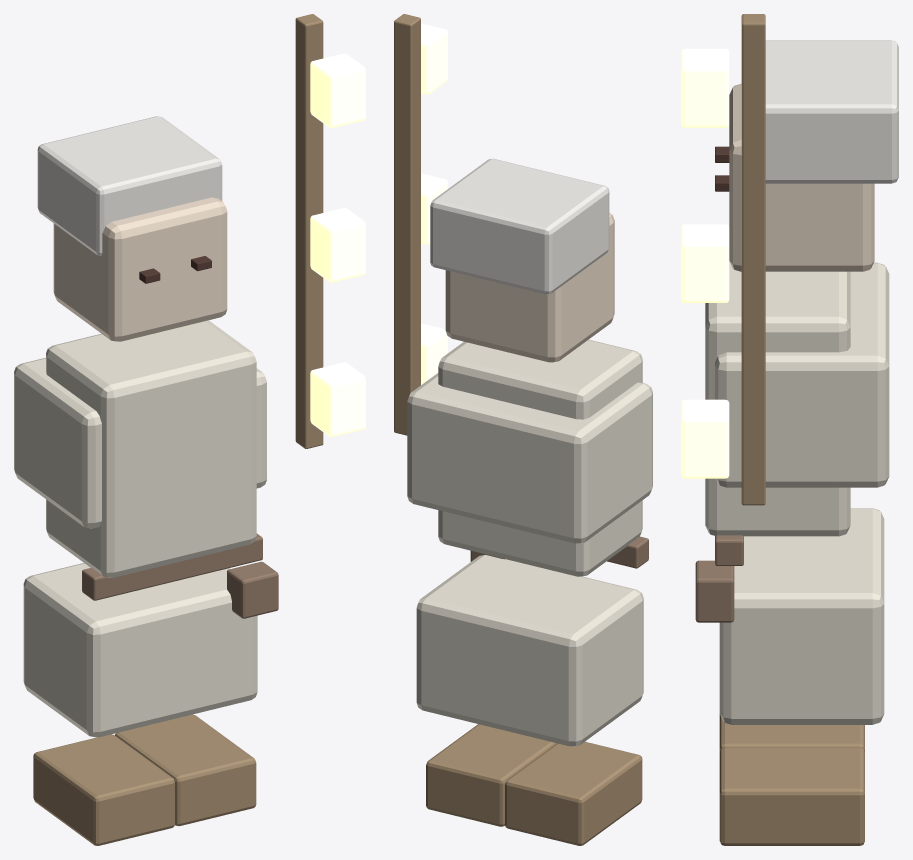
The model's file is npc_eldra.glb.
3 renders of one model, left to right at view 1: azimuth 30°, elevation 25°; view 2: azimuth 150°, elevation 25°; view 3: azimuth 270°, elevation 25°, orthographic. The views are drawn at different scales.
Parts seen in each view (by area): view 1: Body_torso, Body_skirt, Head_skull, Head_hair, Body_shawl, Leg_L_clog, Arm_R_pole, Leg_R_clog, Body_belt, Arm_R_lantern_2, Arm_R_lantern_0, Arm_R_lantern_1 (+1 smaller); view 2: Body_skirt, Body_shawl, Head_hair, Body_torso, Head_skull, Leg_L_clog, Arm_R_pole, Leg_R_clog, Arm_R_lantern_2, Arm_R_lantern_0, Arm_R_lantern_1, Body_belt; view 3: Body_skirt, Body_shawl, Head_hair, Body_torso, Leg_R_clog, Arm_R_pole, Head_skull, Arm_R_lantern_0, Arm_R_lantern_2, Arm_R_lantern_1, Leg_L_clog, Body_pouch (+1 smaller).
Boxes of the visible parts, x1,y1,x2,y2 form: Body_torso: (46,320,256,577); Body_skirt: (23,563,257,737); Head_skull: (53,197,227,341); Head_hair: (37,116,222,255); Body_shawl: (14,357,266,528); Leg_L_clog: (33,734,174,845); Arm_R_pole: (295,14,323,448); Leg_R_clog: (115,714,256,826); Body_belt: (82,533,262,600); Arm_R_lantern_2: (310,53,365,128); Arm_R_lantern_0: (310,362,365,436); Arm_R_lantern_1: (310,208,365,282); Body_skirt: (416,555,643,746); Body_shawl: (407,373,652,543); Head_hair: (430,158,609,294); Body_torso: (438,339,642,576); Head_skull: (445,213,614,362); Leg_L_clog: (505,741,642,845); Arm_R_pole: (394,14,420,435); Leg_R_clog: (426,724,556,826); Arm_R_lantern_2: (421,23,447,94); Arm_R_lantern_0: (421,323,447,384); Arm_R_lantern_1: (421,173,447,244); Body_belt: (607,536,648,568); Body_skirt: (719,508,884,724); Body_shawl: (715,262,889,487); Head_hair: (765,40,898,183); Body_torso: (705,261,850,536); Leg_R_clog: (719,748,864,845); Arm_R_pole: (741,14,765,505); Head_skull: (729,83,874,271); Arm_R_lantern_0: (681,399,729,478); Arm_R_lantern_2: (681,48,729,127); Arm_R_lantern_1: (681,224,729,302); Leg_L_clog: (719,714,864,752); Body_pouch: (695,560,734,622).
Bounding box in the file's own units: 0.72 × 1.97 × 0.45.
